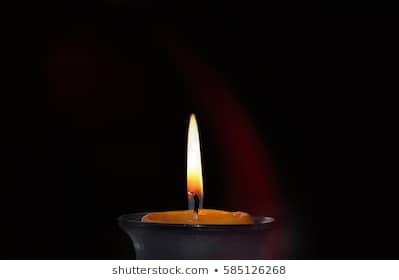fire: (184, 109, 204, 198)
